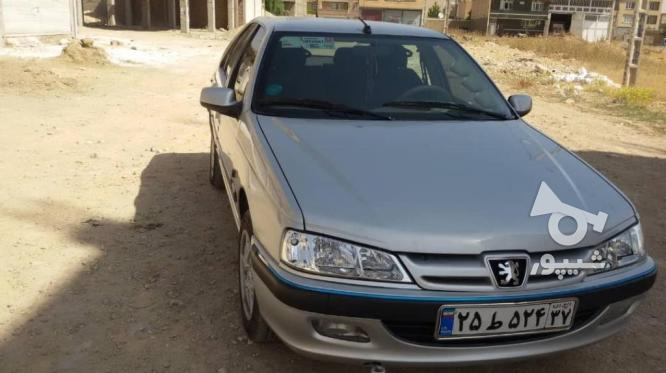car: (432, 295, 582, 341)
